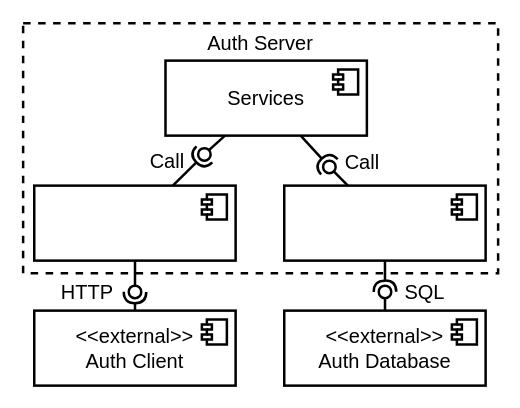
Image size: 520x408. Some labels were removed from this diagram. Here are the shapes that lost their labels. From the top down, the box of each, then its label:
(32, 184, 236, 261): Router
(282, 184, 486, 261): Repository
